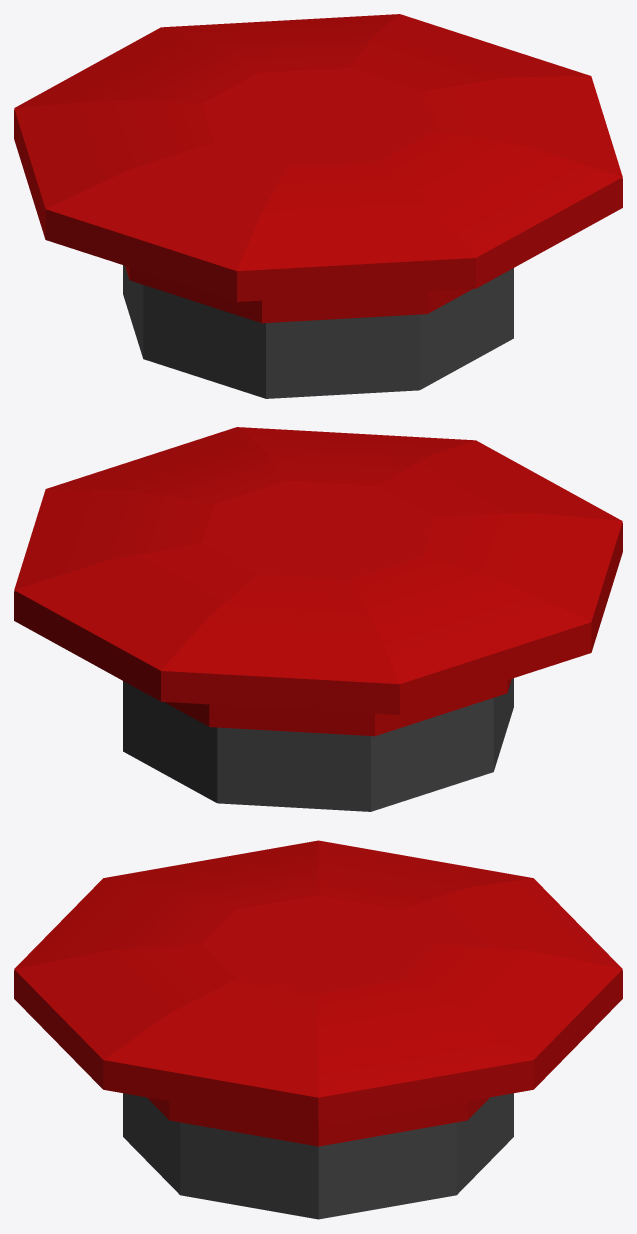
The model's file is BUTTON RED PRESS- UPDATED (DEC 1, 2023).fbx.
The picture shows the model from 3 angles, top to bottom: view 1: azimuth 30°, elevation 25°; view 2: azimuth 150°, elevation 25°; view 3: azimuth 270°, elevation 25°; orthographic projection. The views are drawn at different scales.
Parts seen in each view (by area): view 1: pSphere2; view 2: pSphere2; view 3: pSphere2.
Part boxes in pixels (x1=…): pSphere2: x1=14, y1=14, x2=622, y2=398; pSphere2: x1=14, y1=427, x2=622, y2=811; pSphere2: x1=14, y1=840, x2=622, y2=1219.
Bounding box in the file's own units: 3.55 × 1.24 × 3.55.
